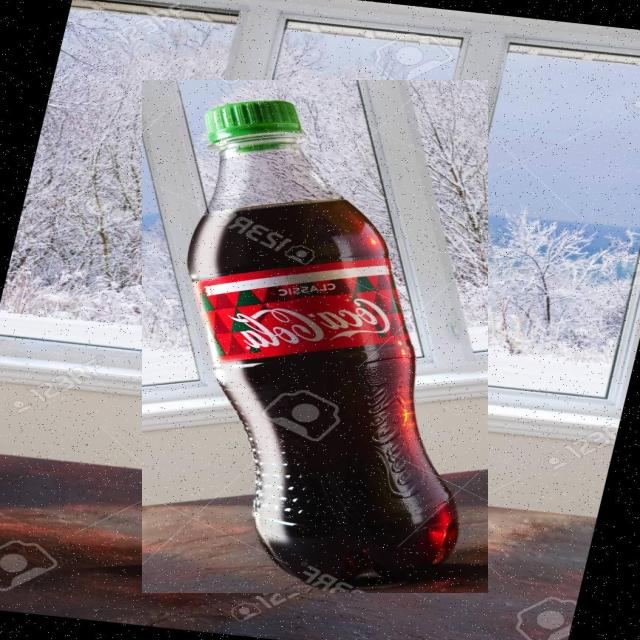coca-cola: (142, 80, 488, 593)
